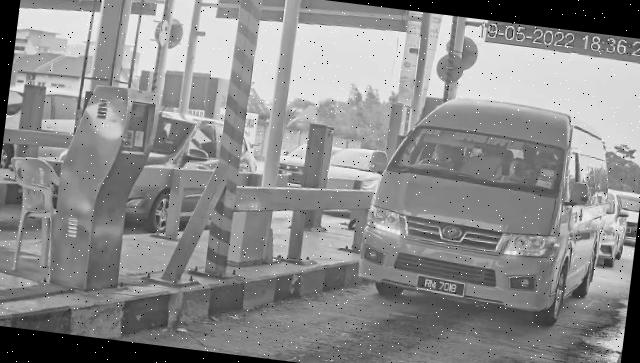License_Plate: (416, 275, 467, 300)
van: (355, 87, 618, 332)
